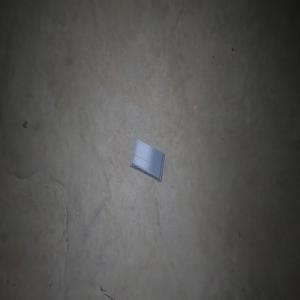PlasticPart: (129, 137, 165, 182)
